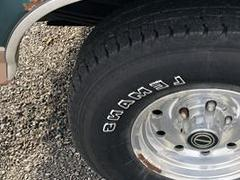rust: (24, 1, 45, 9)
